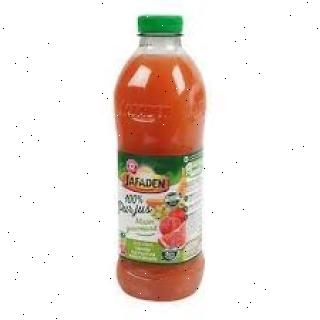Plastic-bottle: (110, 14, 210, 305)
